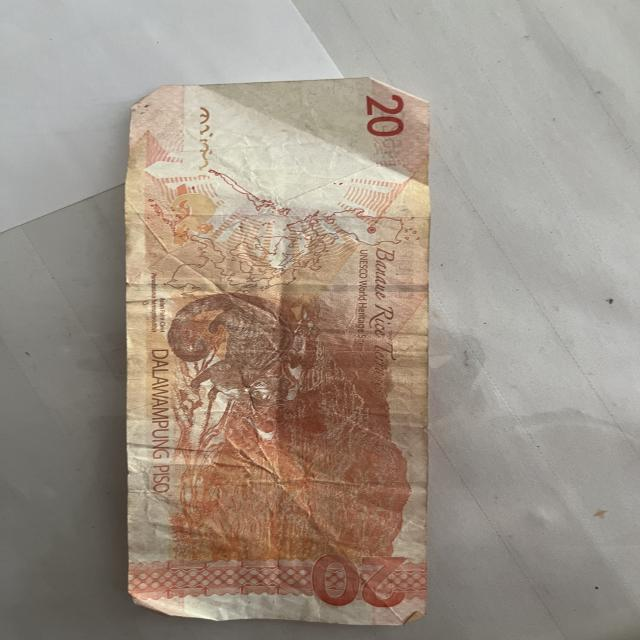20_civet: (161, 286, 294, 412)
20_civet_watermark: (166, 190, 220, 240)
